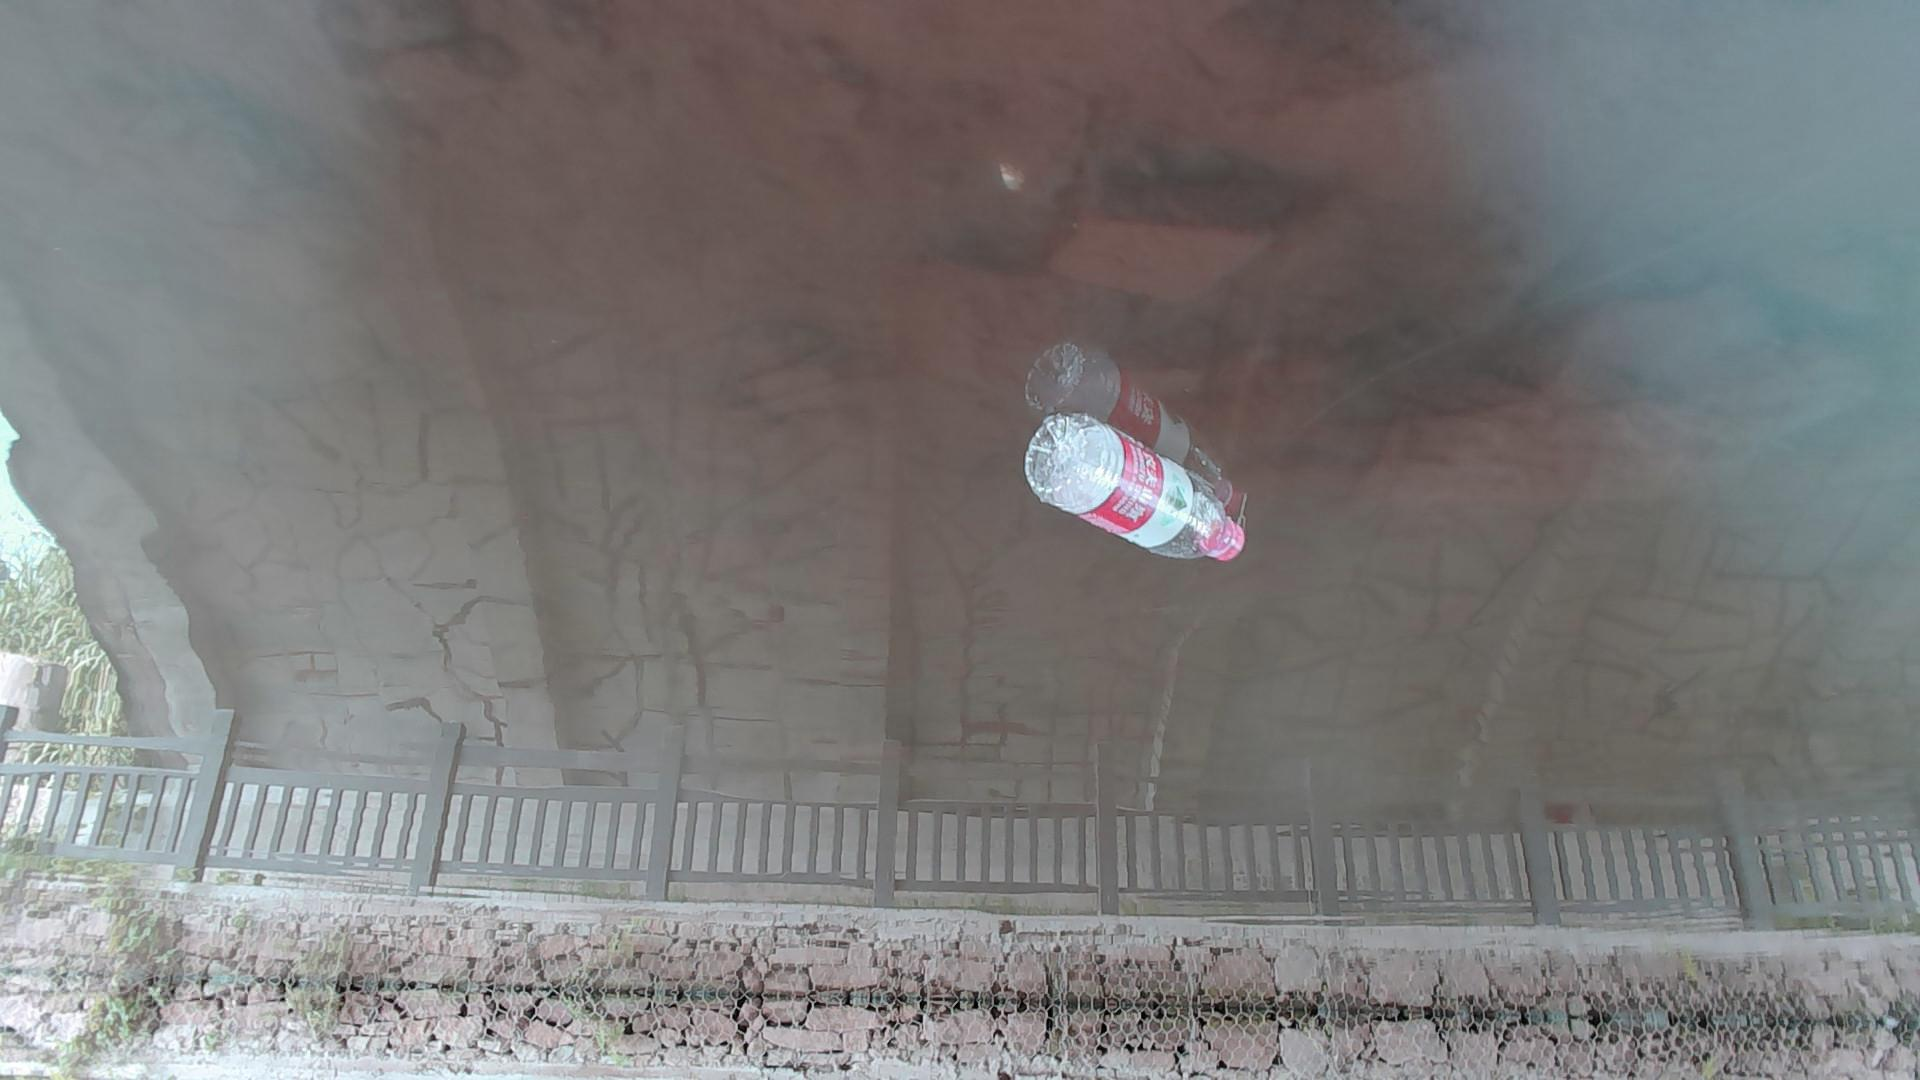Plastic: (1021, 410, 1253, 572)
